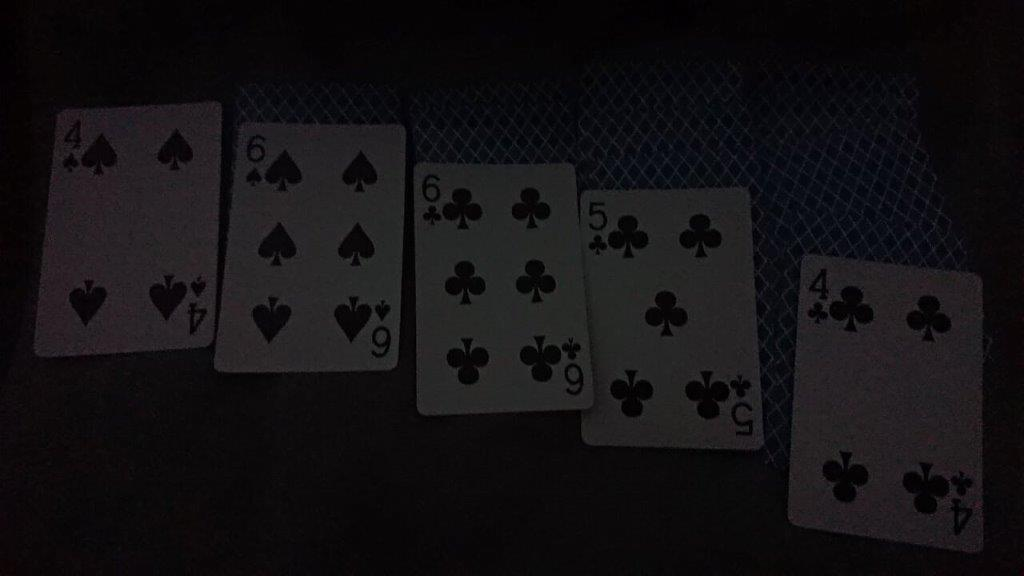4C: (801, 259, 839, 331)
4S: (58, 113, 90, 176)
5C: (584, 193, 614, 262)
6C: (416, 167, 452, 233)
6S: (241, 127, 273, 188)
BACK: (761, 119, 946, 203), (780, 201, 979, 253), (413, 104, 578, 163), (577, 60, 745, 108), (581, 145, 759, 188), (578, 107, 750, 147), (234, 81, 402, 121), (755, 60, 932, 93), (409, 71, 577, 104), (750, 93, 919, 120)
